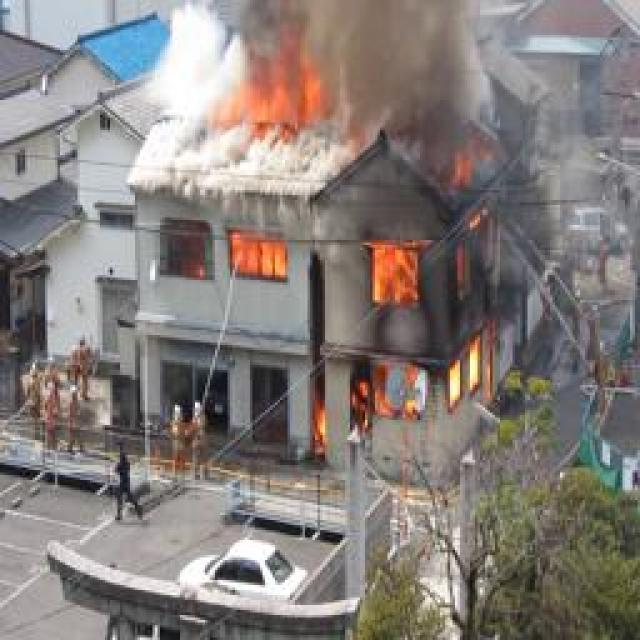Fire: (310, 144, 514, 453), (207, 39, 335, 131), (186, 230, 289, 284)
